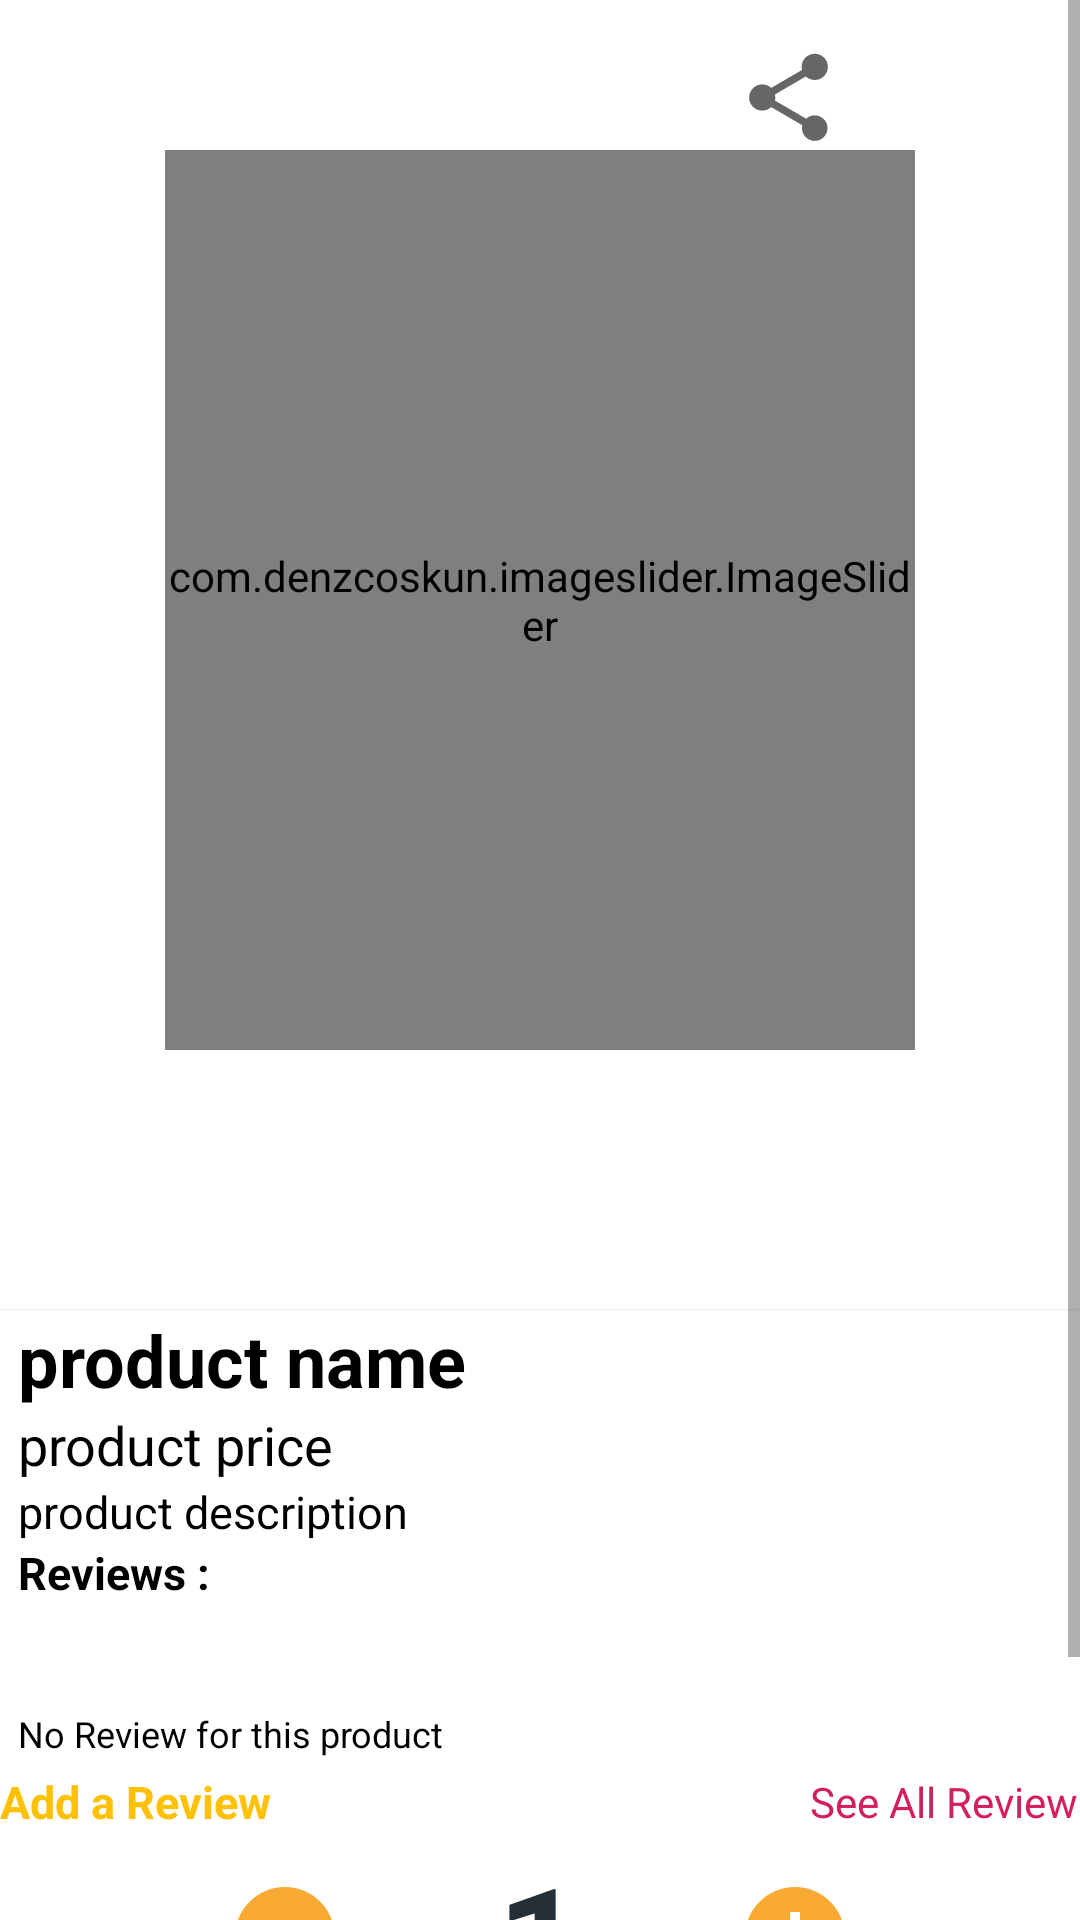

Icon click points for this 1080px x 1920px phone screenshot, format (x,y):
share: (788,97)
